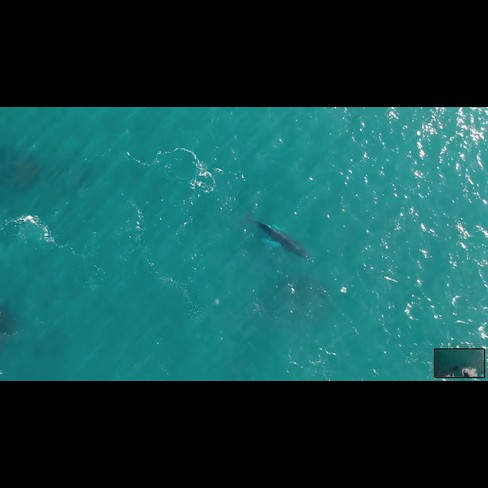hump: (238, 207, 321, 269)
